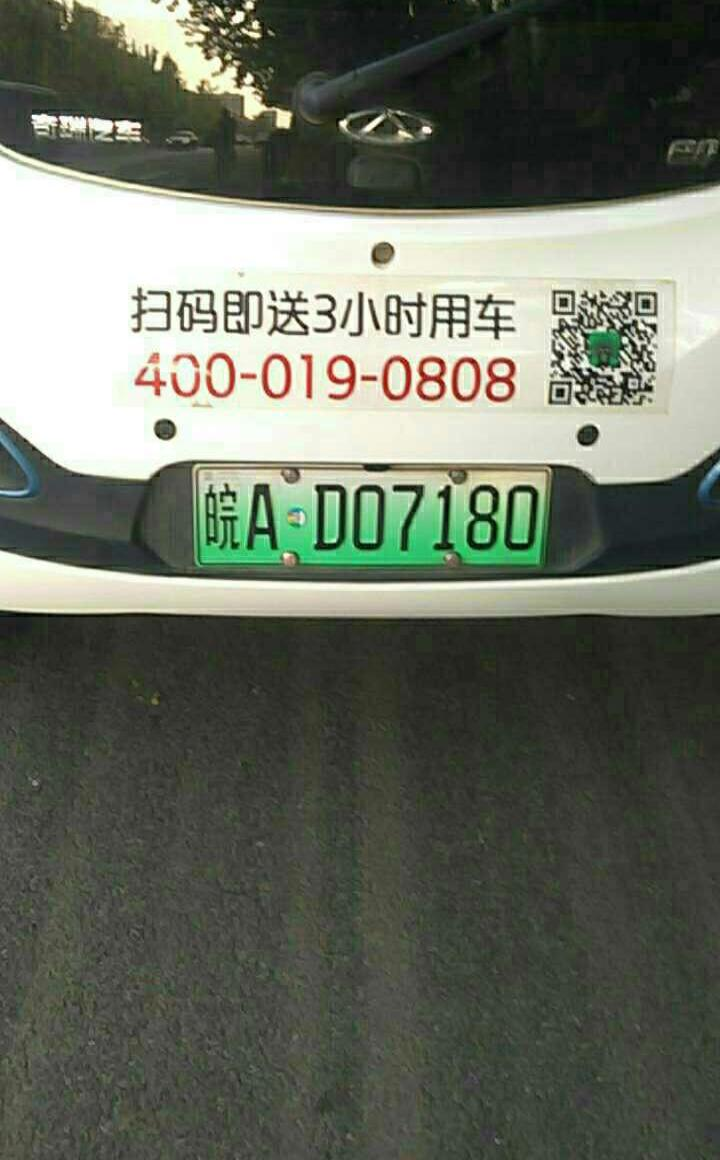car_id: (195, 466, 556, 567)
